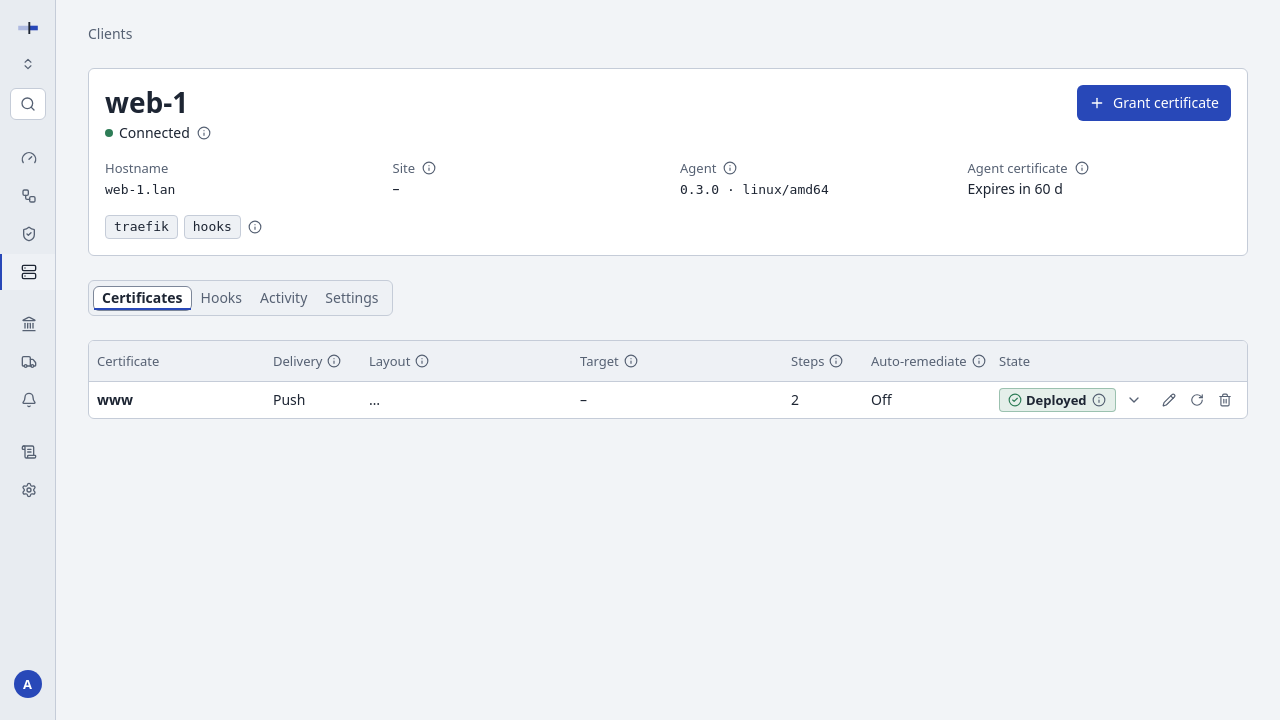
Test case: opens a click popover of a grant's steps, each linking to its action
What coordinates should you click on to do the following:
click the button "2"
I would click on:
 (795, 400)
Its box is [791, 390, 799, 410].
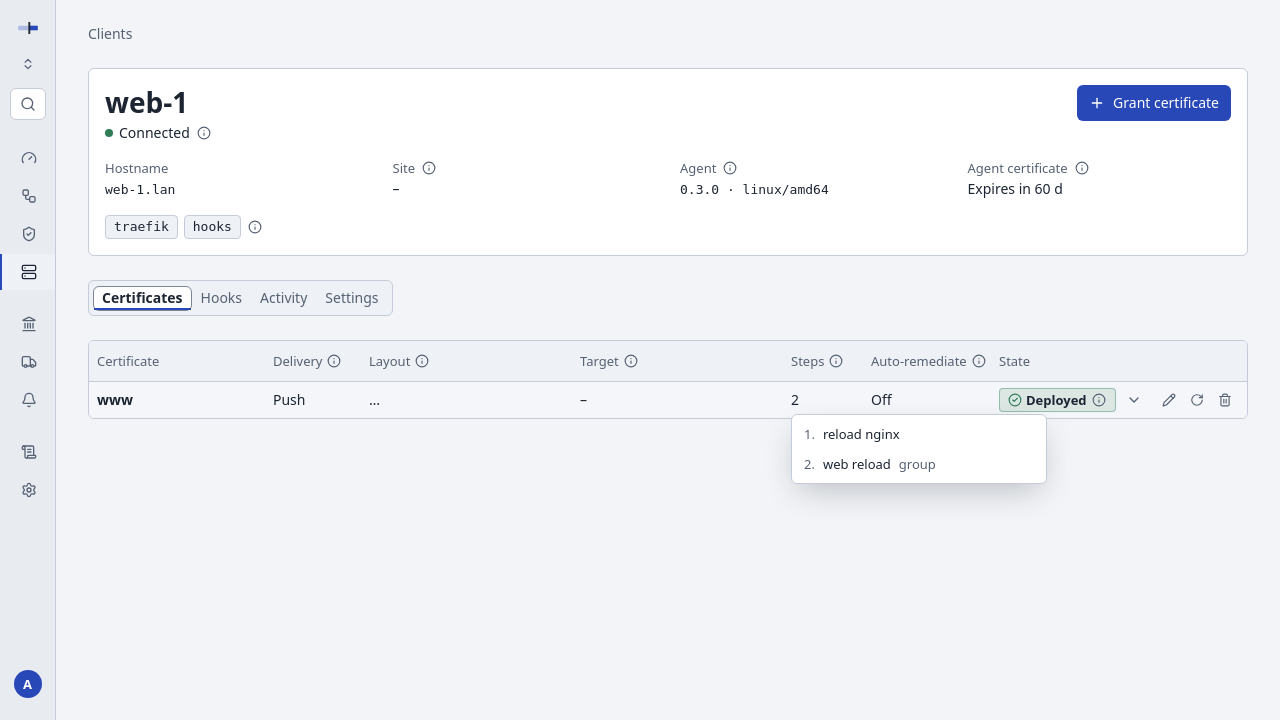
Check: the text "group" is shown, box [899, 455, 936, 473]
